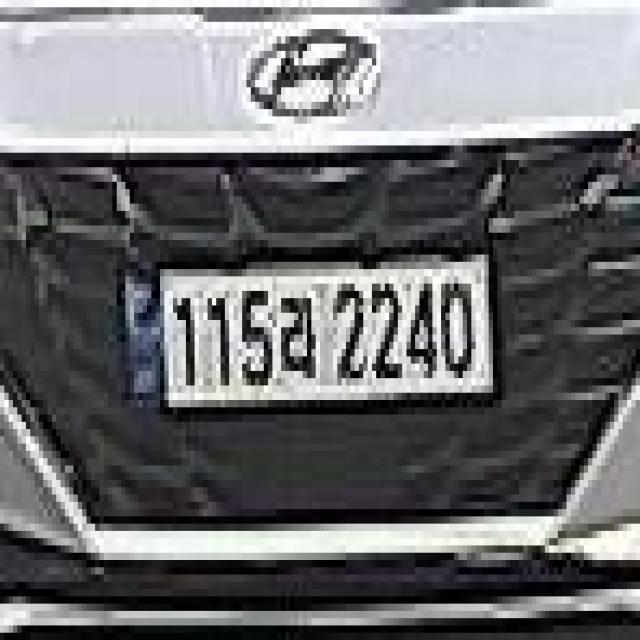illegal_plate: (122, 250, 500, 419)
